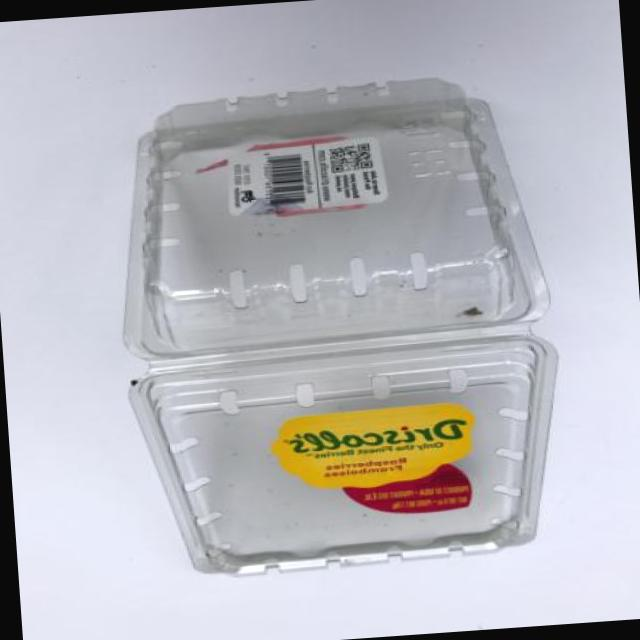plastic: (102, 47, 556, 557)
